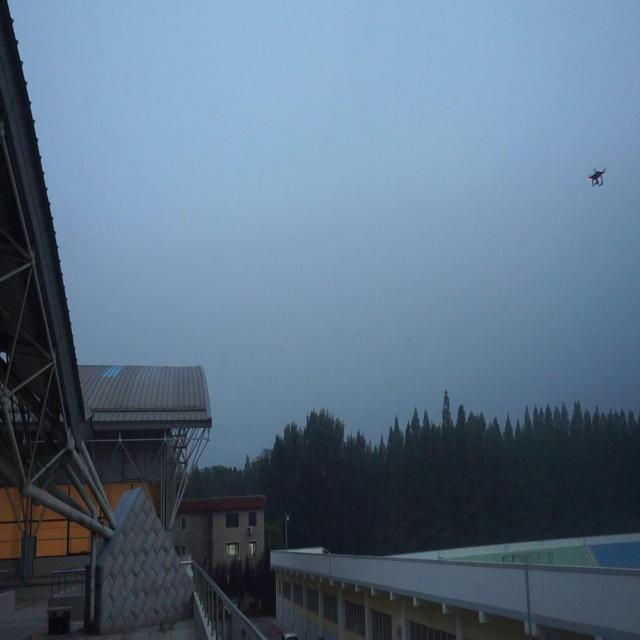UAV: (587, 168, 607, 187)
